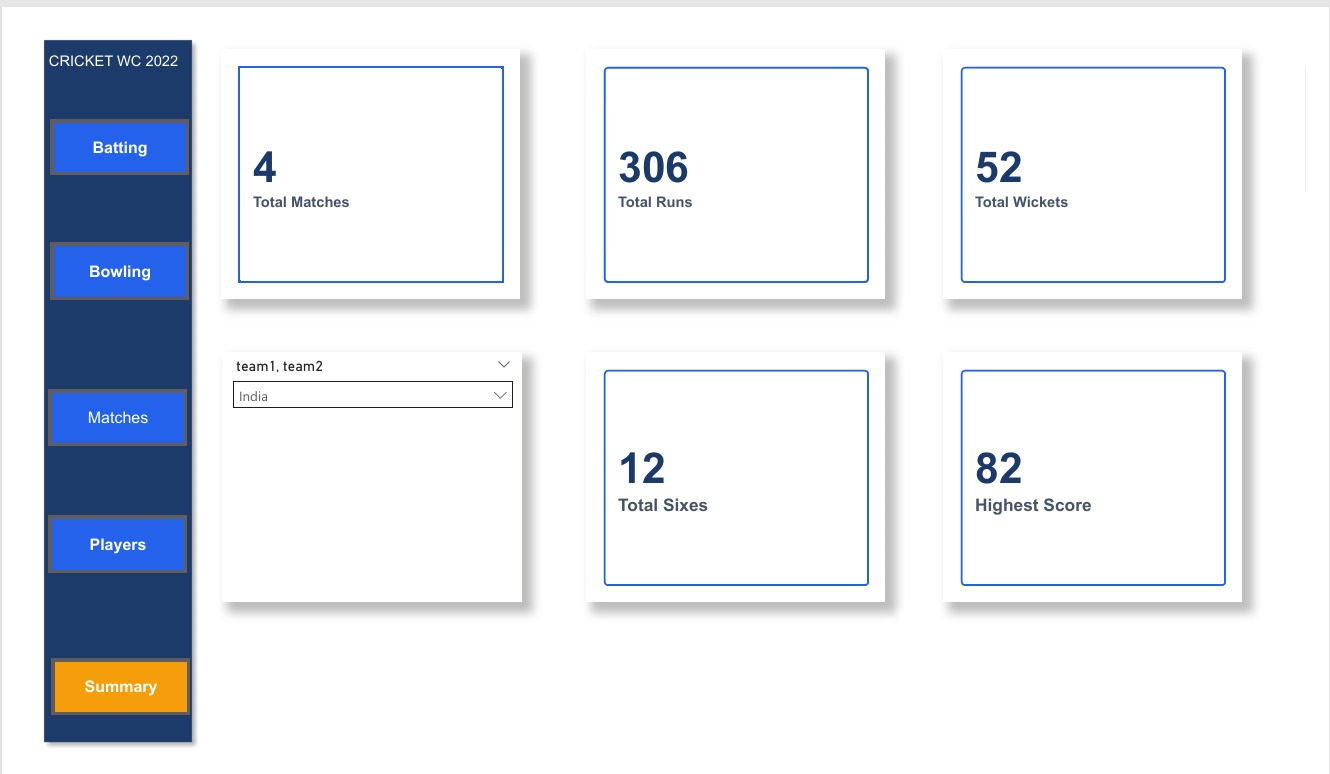

The page's visual inventory and layout, read from the dashboard file:
{"tool":"powerbi","page":{"name":"Summary Page","canvas":[1280,720],"ordinal":4},"visuals":[{"type":"shape","box":[9.4,0,165.9,720],"z":0},{"type":"textbox","box":[11.2,15.9,152.9,36.6],"z":1000},{"type":"cardVisual","fields":{"Data":["Matches.Total Matches"]},"box":[195.9,19.1,299.5,250.1],"z":2000},{"type":"cardVisual","fields":{"Data":["Batting.Total Runs"]},"box":[560.7,19.1,299.5,250.1],"z":3000},{"type":"cardVisual","fields":{"Data":["Bowling.Total Wickets"]},"box":[917.5,19.1,299.5,250.1],"z":4000},{"type":"cardVisual","fields":{"Data":["Batting.Total Sixes"]},"box":[560.7,321.8,299.5,250.1],"z":5000},{"type":"cardVisual","fields":{"Data":["Batting.Highest Score"]},"box":[917.5,321.8,299.5,250.1],"z":6000},{"type":"slicer","fields":{"Values":["Matches.team1","Matches.team2"]},"box":[196.7,321.7,300,250],"z":7000},{"type":"actionButton","box":[24.6,89.1,138.3,55.3],"z":8000},{"type":"actionButton","box":[24.6,212,138.3,56.8],"z":9000},{"type":"actionButton","box":[23,359.5,138.3,55.3],"z":10000},{"type":"actionButton","box":[23,485.5,138.3,56.8],"z":11000},{"type":"actionButton","box":[26.1,628.3,138.3,55.3],"z":12000}]}

Visuals, with their boxes on the page's 1280x720 design canvas (x1, y1, x2, y2). These are canvas units, not pixel positions in the 1330x774 screenshot, which may show the page scaled, cropped or inside an application window:
shape: BBox(9, 0, 175, 720)
textbox: BBox(11, 16, 164, 52)
cardVisual - Matches.Total Matches: BBox(196, 19, 495, 269)
cardVisual - Batting.Total Runs: BBox(561, 19, 860, 269)
cardVisual - Bowling.Total Wickets: BBox(918, 19, 1217, 269)
cardVisual - Batting.Total Sixes: BBox(561, 322, 860, 572)
cardVisual - Batting.Highest Score: BBox(918, 322, 1217, 572)
slicer - Matches.team1 x Matches.team2: BBox(197, 322, 497, 572)
actionButton: BBox(25, 89, 163, 144)
actionButton: BBox(25, 212, 163, 269)
actionButton: BBox(23, 360, 161, 415)
actionButton: BBox(23, 486, 161, 542)
actionButton: BBox(26, 628, 164, 684)
